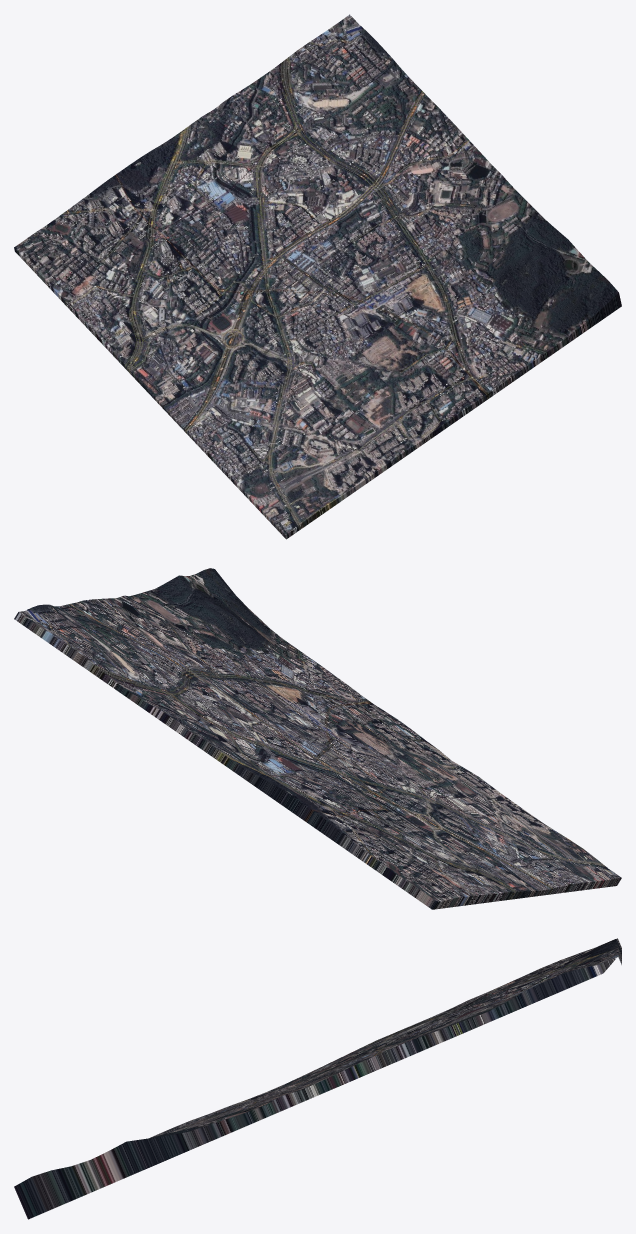
3 renders of one model, top to bottom at view 1: azimuth 30°, elevation 25°; view 2: azimuth 150°, elevation 25°; view 3: azimuth 270°, elevation 25°, orthographic. The views are drawn at different scales.
Parts seen in each view (by area): view 1: 2_0_5; view 2: 2_0_5; view 3: 2_0_5.
Boxes of the visible parts, x1,y1,x2,y2 form: 2_0_5: (14,14,621,539); 2_0_5: (14,568,621,909); 2_0_5: (14,938,621,1219).
Bounding box in the file's own units: 2460 × 1801 × 2290.
Materials: 1 (1 with a texture image).
